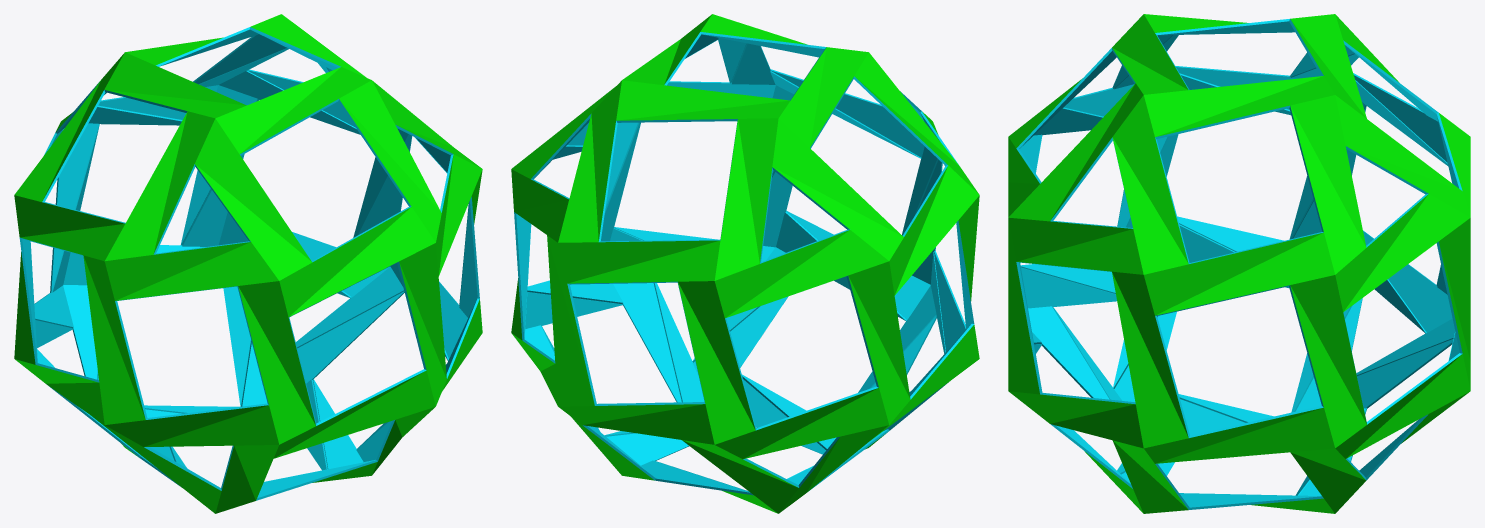
File: Rhombicuboctahedron.glb
3 renders of one model, left to right at view 1: azimuth 30°, elevation 25°; view 2: azimuth 150°, elevation 25°; view 3: azimuth 270°, elevation 25°, orthographic. The views are drawn at different scales.
Visible parts, largest first — view 1: root; view 2: root; view 3: root.
Boxes of the visible parts, bbox=[...] form: root: bbox=[14, 14, 482, 513]; root: bbox=[511, 14, 979, 513]; root: bbox=[1008, 14, 1470, 513].
Bounding box in the file's own units: 7.24 × 7.24 × 7.24.
